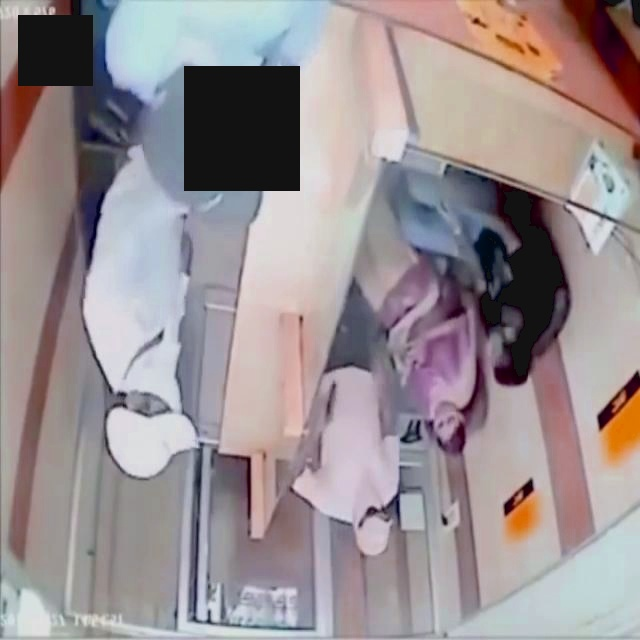gun: (322, 375, 339, 428)
